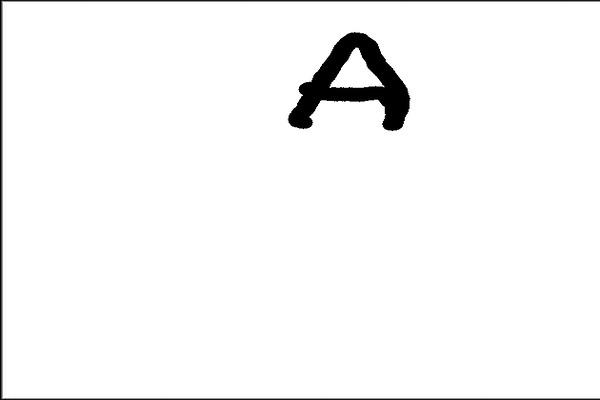A: (281, 23, 415, 140)
